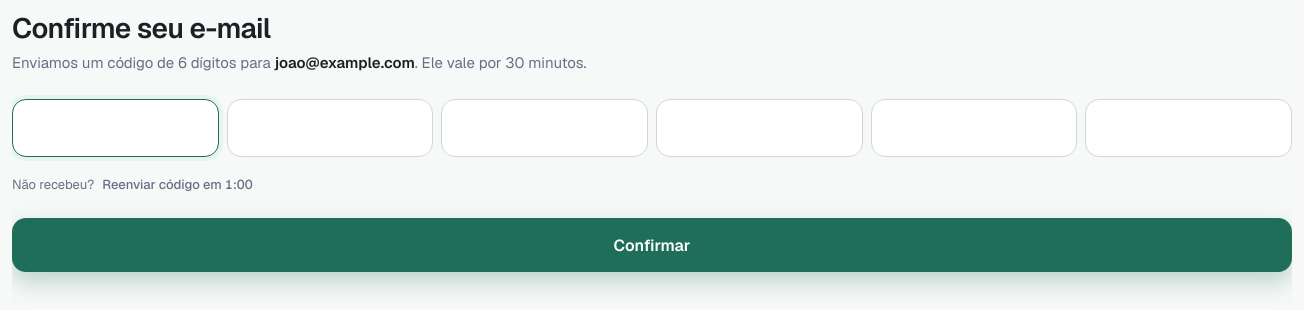
Scenario: SignupStepConfirmation › temporizador e reenvio de código › deve limpar o código anterior ao reenviar com sucesso
The width and height of the screenshot is (1304, 310).
In the field named "Dígito 1 de 6": (115, 128) [12,99,219,157], type "7"
Wait 60000 ms
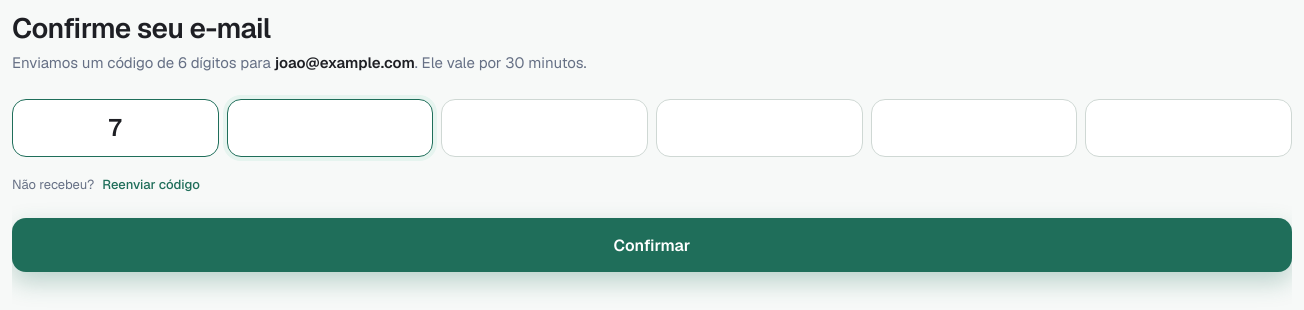
Click the button "Reenviar código": (151, 184) [102,176,200,193]
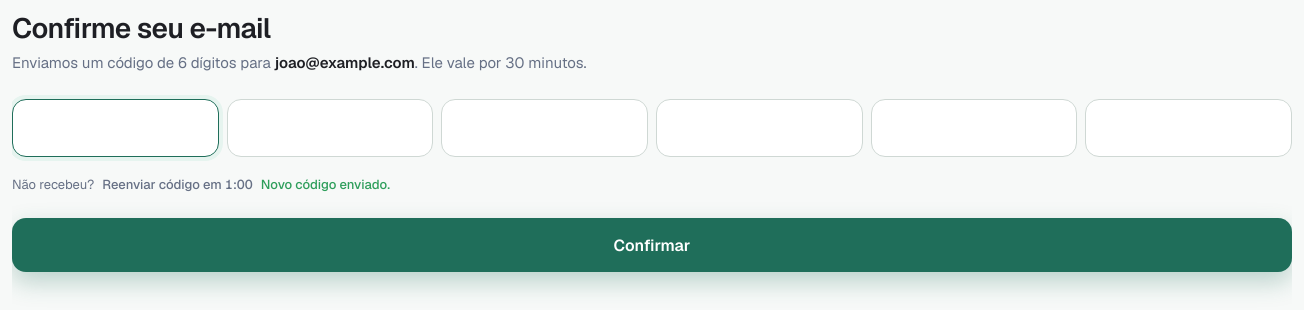
Expected: the message reads "Novo código enviado.", [261,176,390,193]
Expected: the field named "Dígito 1 de 6" is empty, [12,99,219,157]
